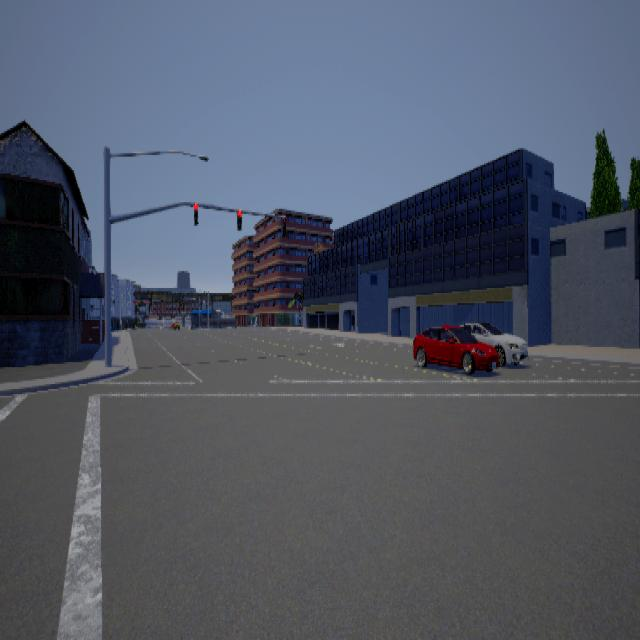red_light: (195, 202, 200, 224), (282, 216, 287, 236), (238, 209, 243, 229)
vehicle: (414, 322, 494, 374), (450, 315, 530, 367)
